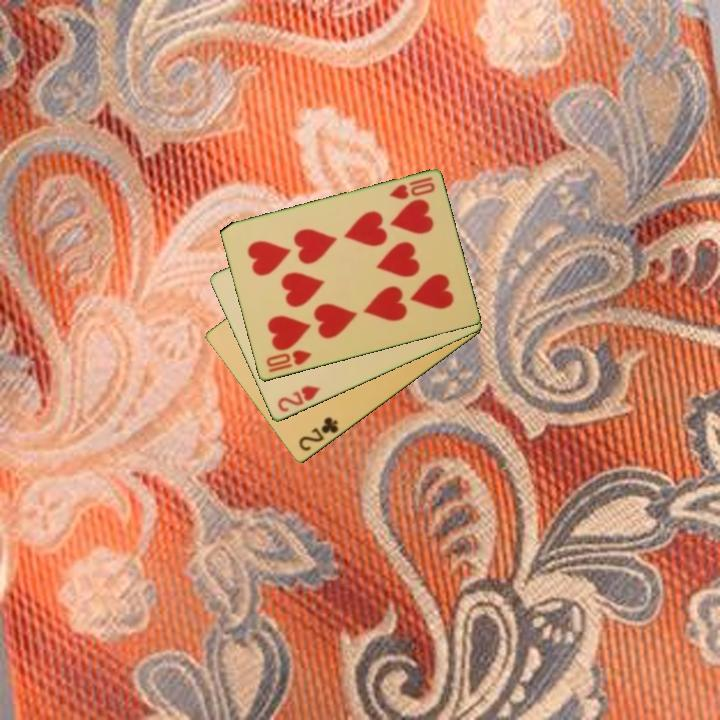10h: (386, 173, 438, 203), (262, 347, 314, 376)
2c: (295, 414, 341, 455)
2h: (274, 382, 323, 415)
